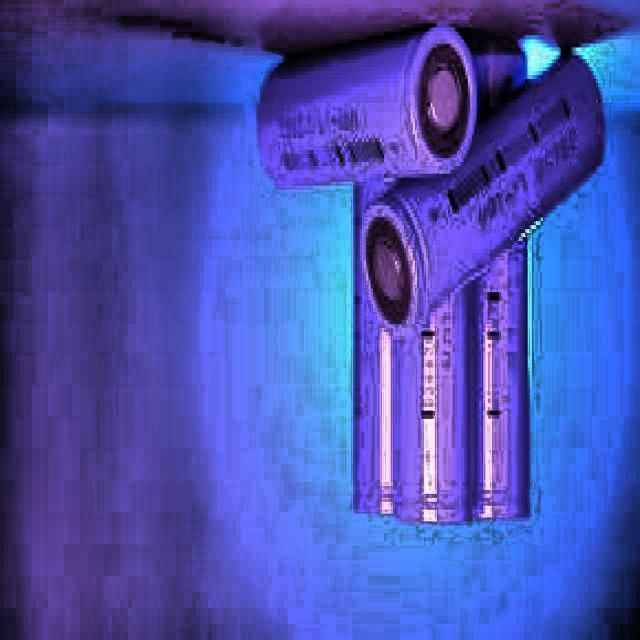battery: (355, 59, 602, 336), (260, 28, 519, 190)
